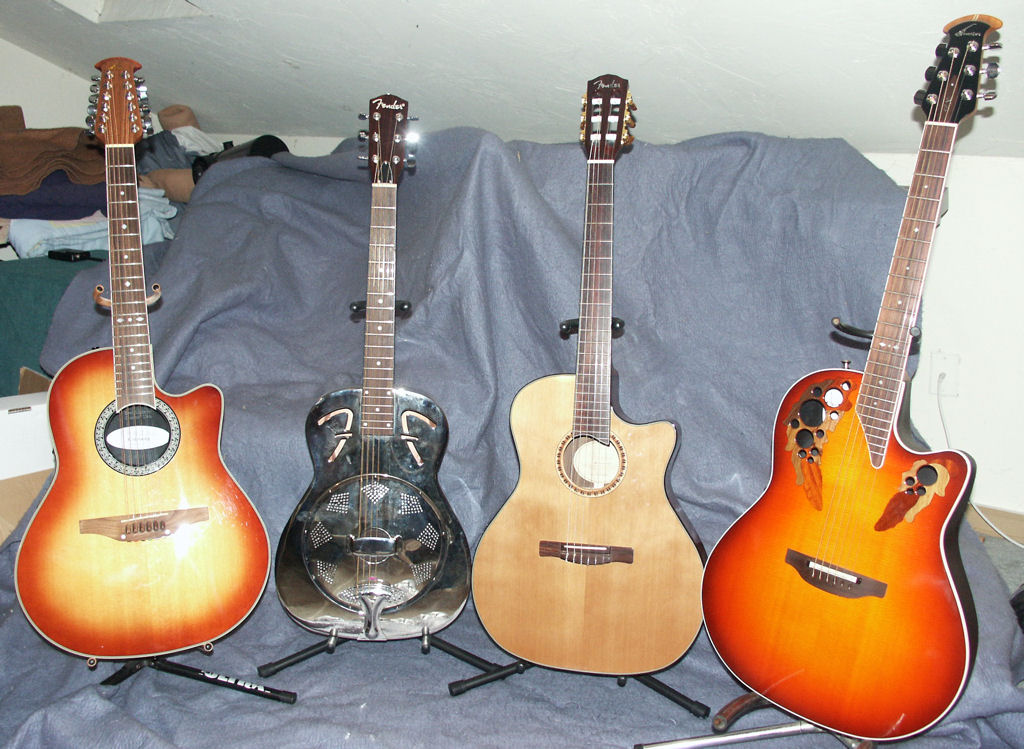guitar: (698, 14, 1015, 741), (10, 50, 276, 666), (465, 69, 714, 681)
